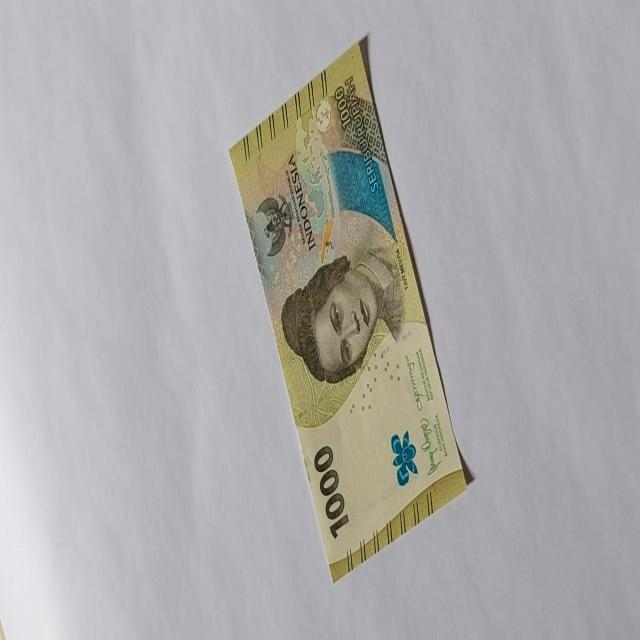seribu rupiah kertas: (228, 36, 468, 584)
